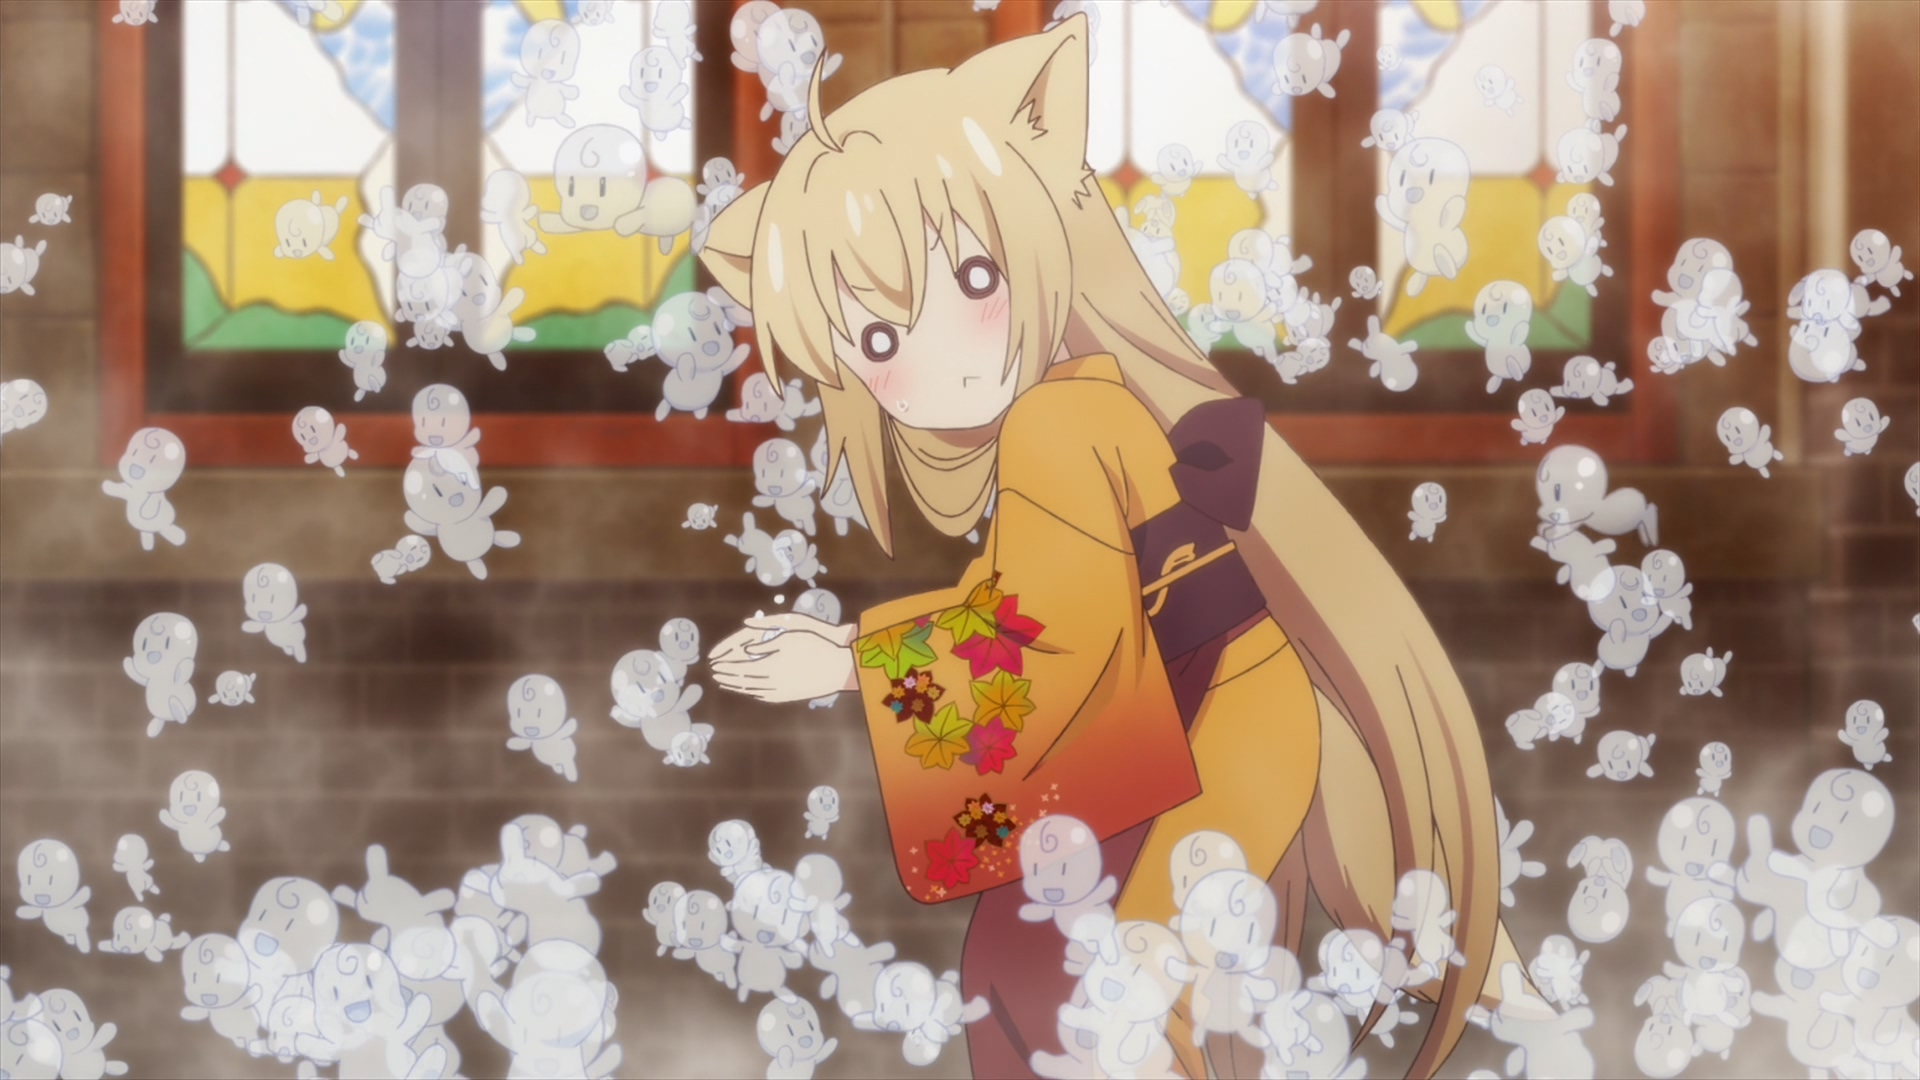柚: (694, 13, 1501, 1080)
